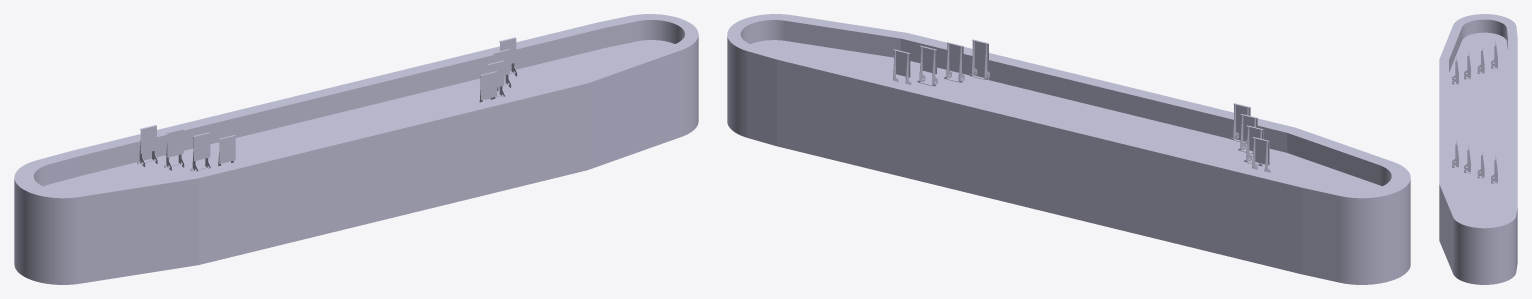
The model's file is CRAWLER_LEFT.obj.
3 renders of one model, left to right at view 1: azimuth 30°, elevation 25°; view 2: azimuth 150°, elevation 25°; view 3: azimuth 270°, elevation 25°, orthographic. The views are drawn at different scales.
Visible parts, largest first — view 1: SCX2000-3_CRAWLER_000_1-HSC_SCX2000-3_CRAWLER004 (Meshed), SCX2000-3_CRAWLER_000_1-HSC_SCX2000-3_CRAWLER018 (Meshed), SCX2000-3_CRAWLER_000_1-HSC_SCX2000-3_CRAWLER009 (Meshed), SCX2000-3_CRAWLER_000_1-HSC_SCX2000-3_CRAWLER003 (Meshed), SCX2000-3_CRAWLER_000_1-HSC_SCX2000-3_CRAWLER005 (Meshed), SCX2000-3_CRAWLER_000_1-HSC_SCX2000-3_CRAWLER019 (Meshed), SCX2000-3_CRAWLER_000_1-HSC_SCX2000-3_CRAWLER006 (Meshed); view 2: SCX2000-3_CRAWLER_000_1-HSC_SCX2000-3_CRAWLER004 (Meshed), SCX2000-3_CRAWLER_000_1-HSC_SCX2000-3_CRAWLER018 (Meshed), SCX2000-3_CRAWLER_000_1-HSC_SCX2000-3_CRAWLER015 (Meshed), SCX2000-3_CRAWLER_000_1-HSC_SCX2000-3_CRAWLER002 (Meshed), SCX2000-3_CRAWLER_000_1-HSC_SCX2000-3_CRAWLER019 (Meshed), SCX2000-3_CRAWLER_000_1-HSC_SCX2000-3_CRAWLER011 (Meshed), SCX2000-3_CRAWLER_000_1-HSC_SCX2000-3_CRAWLER005 (Meshed); view 3: SCX2000-3_CRAWLER_000_1-HSC_SCX2000-3_CRAWLER018 (Meshed), SCX2000-3_CRAWLER_000_1-HSC_SCX2000-3_CRAWLER004 (Meshed), SCX2000-3_CRAWLER_000_1-HSC_SCX2000-3_CRAWLER005 (Meshed), SCX2000-3_CRAWLER_000_1-HSC_SCX2000-3_CRAWLER011 (Meshed), SCX2000-3_CRAWLER_000_1-HSC_SCX2000-3_CRAWLER019 (Meshed), SCX2000-3_CRAWLER_000_1-HSC_SCX2000-3_CRAWLER003 (Meshed), SCX2000-3_CRAWLER_000_1-HSC_SCX2000-3_CRAWLER006 (Meshed), SCX2000-3_CRAWLER_000_1-HSC_SCX2000-3_CRAWLER009 (Meshed), SCX2000-3_CRAWLER_000_1-HSC_SCX2000-3_CRAWLER002 (Meshed), SCX2000-3_CRAWLER_000_1-HSC_SCX2000-3_CRAWLER015 (Meshed).
Part boxes in pixels (x1=…): SCX2000-3_CRAWLER_000_1-HSC_SCX2000-3_CRAWLER004 (Meshed): x1=14, y1=14, x2=698, y2=284; SCX2000-3_CRAWLER_000_1-HSC_SCX2000-3_CRAWLER018 (Meshed): x1=43, y1=40, x2=674, y2=190; SCX2000-3_CRAWLER_000_1-HSC_SCX2000-3_CRAWLER009 (Meshed): x1=190, y1=132, x2=211, y2=171; SCX2000-3_CRAWLER_000_1-HSC_SCX2000-3_CRAWLER003 (Meshed): x1=164, y1=128, x2=184, y2=170; SCX2000-3_CRAWLER_000_1-HSC_SCX2000-3_CRAWLER005 (Meshed): x1=137, y1=125, x2=157, y2=166; SCX2000-3_CRAWLER_000_1-HSC_SCX2000-3_CRAWLER019 (Meshed): x1=479, y1=71, x2=497, y2=102; SCX2000-3_CRAWLER_000_1-HSC_SCX2000-3_CRAWLER006 (Meshed): x1=218, y1=135, x2=235, y2=166; SCX2000-3_CRAWLER_000_1-HSC_SCX2000-3_CRAWLER004 (Meshed): x1=727, y1=14, x2=1410, y2=284; SCX2000-3_CRAWLER_000_1-HSC_SCX2000-3_CRAWLER018 (Meshed): x1=751, y1=40, x2=1381, y2=190; SCX2000-3_CRAWLER_000_1-HSC_SCX2000-3_CRAWLER015 (Meshed): x1=944, y1=42, x2=964, y2=82; SCX2000-3_CRAWLER_000_1-HSC_SCX2000-3_CRAWLER002 (Meshed): x1=917, y1=45, x2=937, y2=86; SCX2000-3_CRAWLER_000_1-HSC_SCX2000-3_CRAWLER019 (Meshed): x1=969, y1=39, x2=989, y2=79; SCX2000-3_CRAWLER_000_1-HSC_SCX2000-3_CRAWLER011 (Meshed): x1=893, y1=49, x2=911, y2=84; SCX2000-3_CRAWLER_000_1-HSC_SCX2000-3_CRAWLER005 (Meshed): x1=1252, y1=137, x2=1270, y2=172; SCX2000-3_CRAWLER_000_1-HSC_SCX2000-3_CRAWLER018 (Meshed): x1=1449, y1=32, x2=1507, y2=224; SCX2000-3_CRAWLER_000_1-HSC_SCX2000-3_CRAWLER004 (Meshed): x1=1439, y1=14, x2=1517, y2=284; SCX2000-3_CRAWLER_000_1-HSC_SCX2000-3_CRAWLER005 (Meshed): x1=1491, y1=40, x2=1497, y2=68; SCX2000-3_CRAWLER_000_1-HSC_SCX2000-3_CRAWLER011 (Meshed): x1=1491, y1=155, x2=1497, y2=183; SCX2000-3_CRAWLER_000_1-HSC_SCX2000-3_CRAWLER019 (Meshed): x1=1452, y1=139, x2=1458, y2=167; SCX2000-3_CRAWLER_000_1-HSC_SCX2000-3_CRAWLER003 (Meshed): x1=1477, y1=45, x2=1484, y2=74; SCX2000-3_CRAWLER_000_1-HSC_SCX2000-3_CRAWLER006 (Meshed): x1=1452, y1=56, x2=1458, y2=84; SCX2000-3_CRAWLER_000_1-HSC_SCX2000-3_CRAWLER009 (Meshed): x1=1464, y1=51, x2=1470, y2=79; SCX2000-3_CRAWLER_000_1-HSC_SCX2000-3_CRAWLER002 (Meshed): x1=1477, y1=150, x2=1484, y2=178; SCX2000-3_CRAWLER_000_1-HSC_SCX2000-3_CRAWLER015 (Meshed): x1=1464, y1=144, x2=1470, y2=173.
Size of the model in its own units: 9045 by 1637 by 1400.
